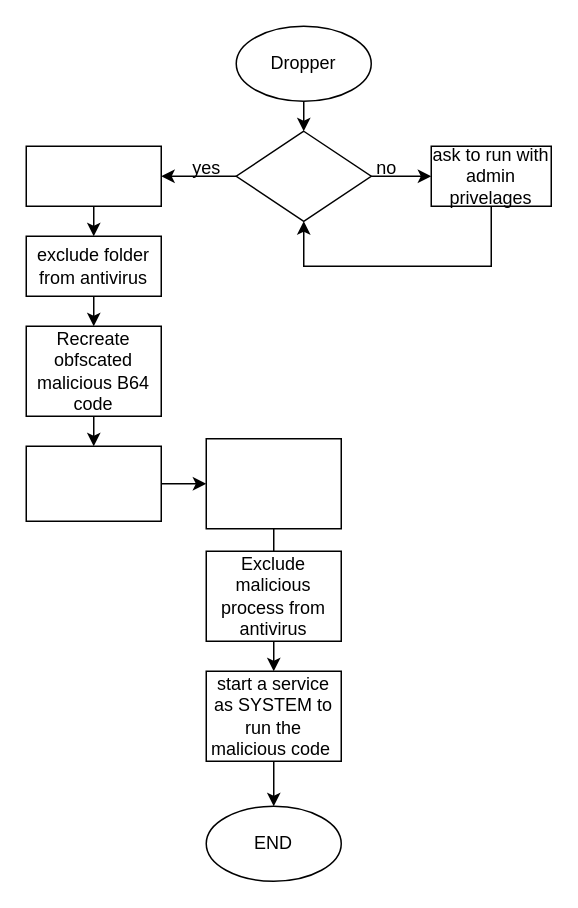
The diagram is 578 pixels wide and 908 high, and some of its shapes have lost their labels. Each missing label, with the box of its shape:
Create drop folder: (25, 145, 161, 206)
Decode malicious B64 payload: (25, 445, 161, 521)
Has admin privelages?: (235, 130, 371, 221)
Write malicious code to excluded folder: (205, 437, 341, 529)
